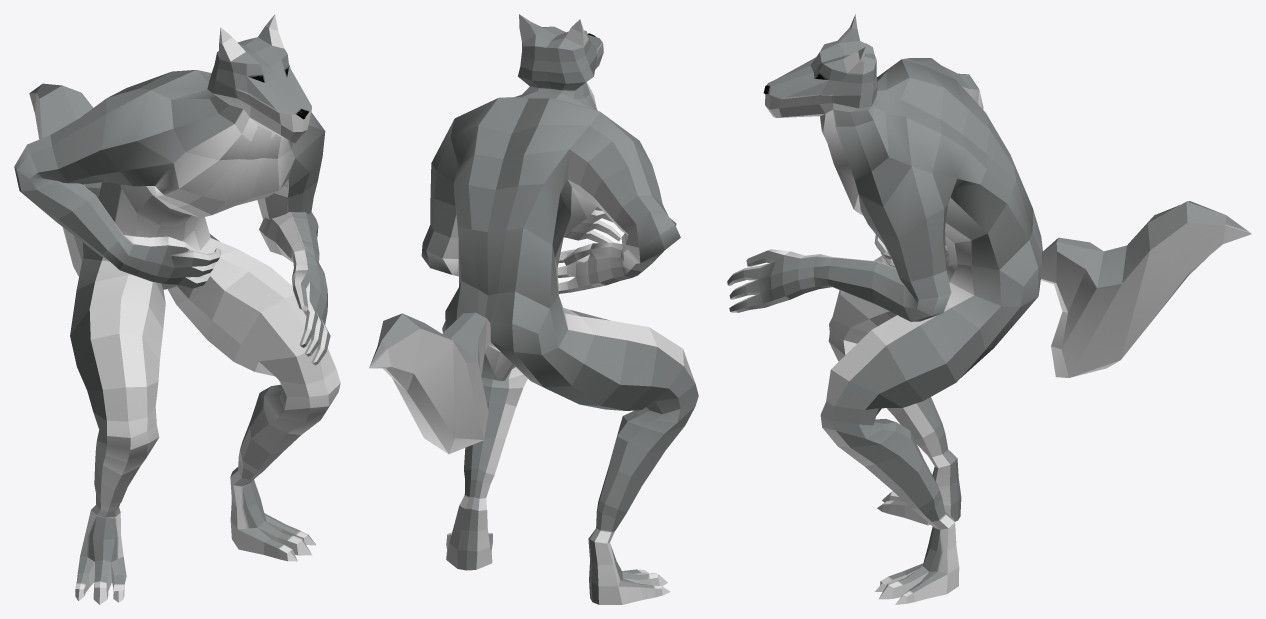
File: WolfIdle_(88).obj
3 renders of one model, left to right at view 1: azimuth 30°, elevation 25°; view 2: azimuth 150°, elevation 25°; view 3: azimuth 270°, elevation 25°, orthographic. The views are drawn at different scales.
Visible parts, largest first — view 1: Box001; view 2: Box001; view 3: Box001.
Boxes of the visible parts, <box> form: Box001: <box>14,14,340,604</box>; Box001: <box>369,14,698,604</box>; Box001: <box>727,14,1251,604</box>.
Bounding box in the file's own units: 68.69 × 132 × 116.
